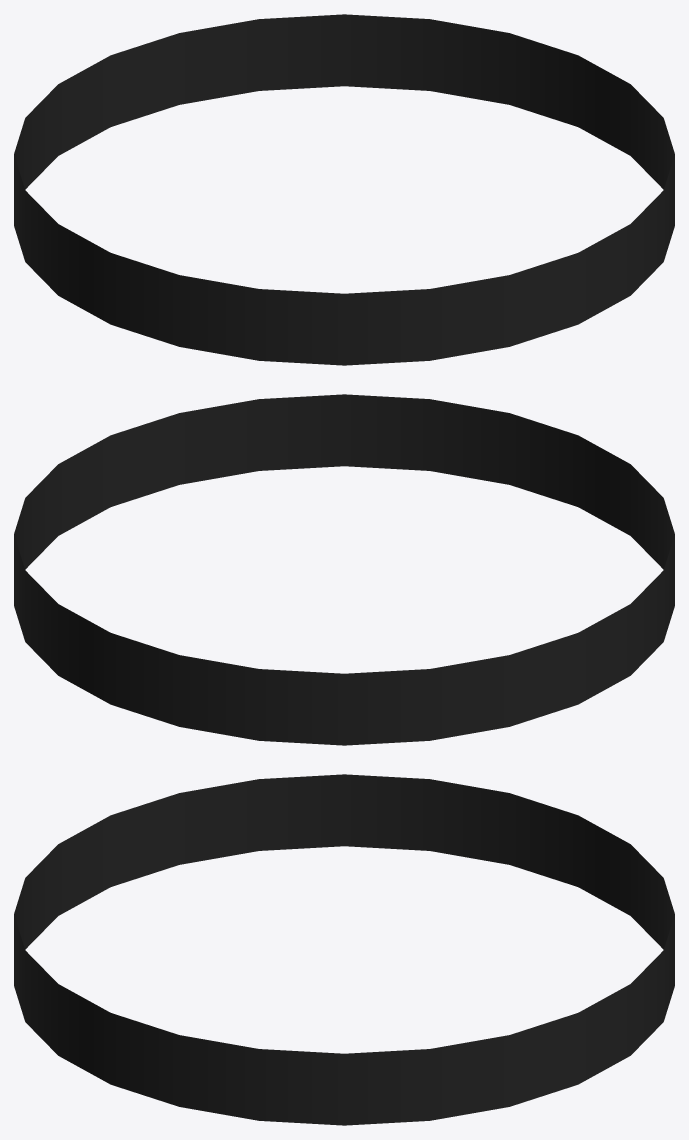
The model's file is tantares_decoupler_s1_1.obj.
The picture shows the model from 3 angles, top to bottom: view 1: azimuth 30°, elevation 25°; view 2: azimuth 150°, elevation 25°; view 3: azimuth 270°, elevation 25°; orthographic projection.
Visible parts, largest first — view 1: mesh; view 2: mesh; view 3: mesh.
Boxes of the visible parts, x1,y1,x2,y2 form: mesh: [14, 14, 674, 365]; mesh: [14, 394, 674, 745]; mesh: [14, 774, 674, 1125].
Size of the model in its own units: 1.25 by 0.15 by 1.25.
